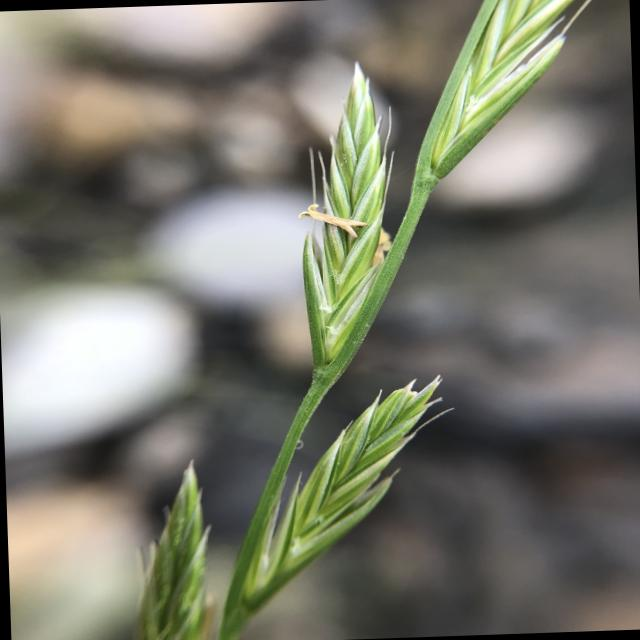Lolium: (110, 0, 619, 640)
